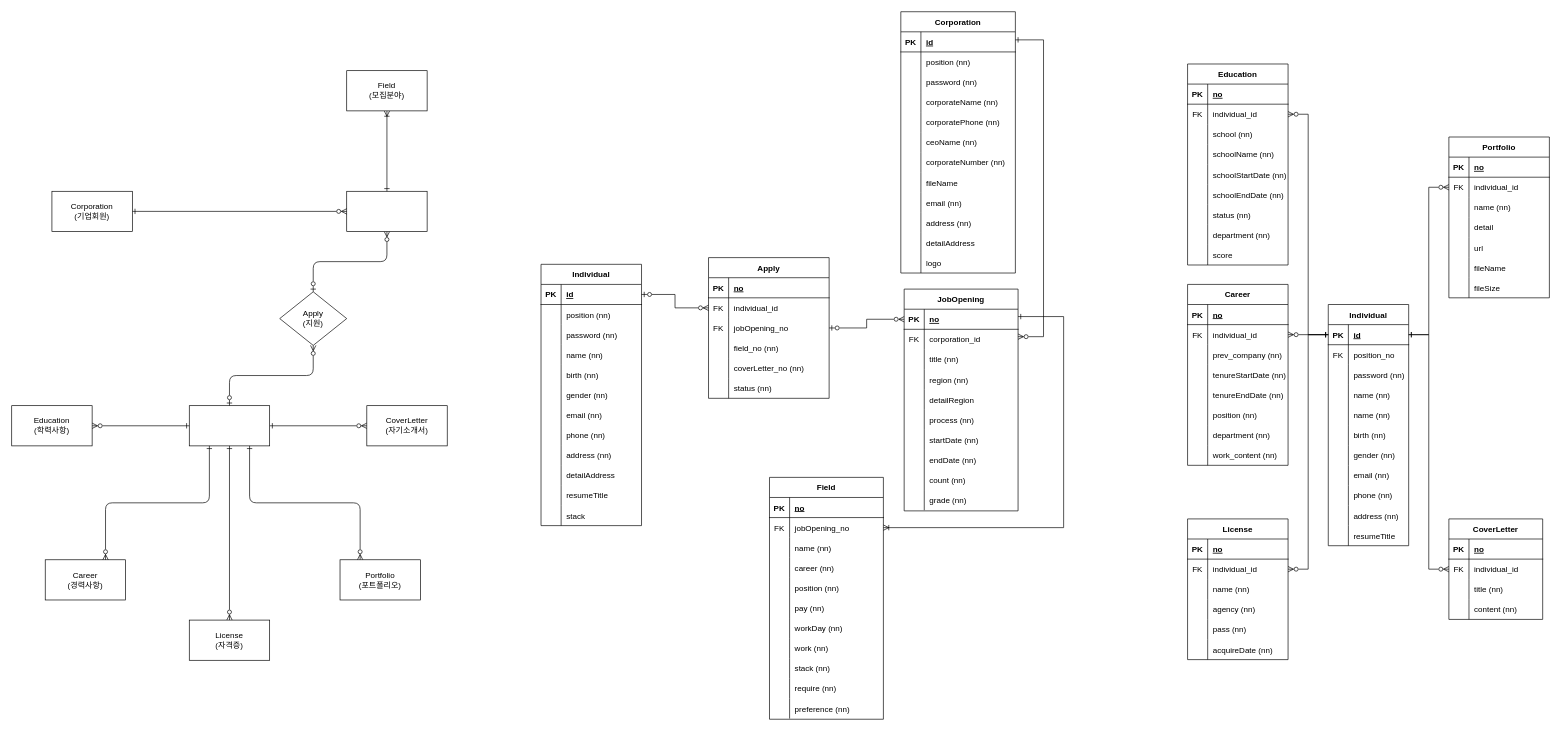
This 1561x731 diagram has some shape labels left out. Each missing label, with the centre of its shape:
"Individual (개인회원)" belongs at point (229, 425).
"JobOpening (공고)" belongs at point (386, 211).
